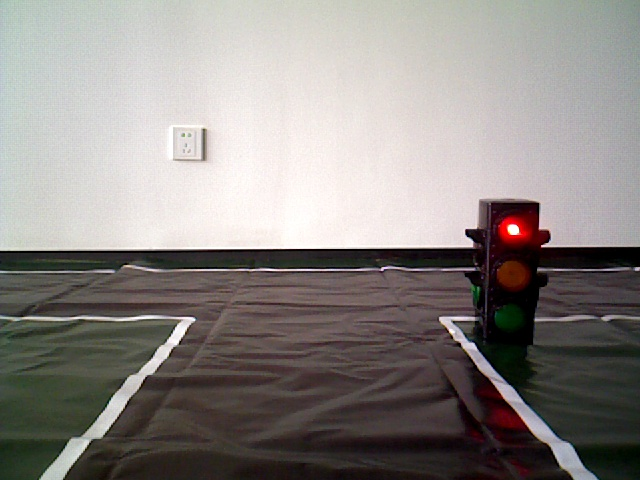red: (476, 202, 532, 347)
